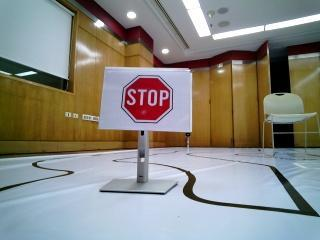stop: (108, 71, 184, 118)
